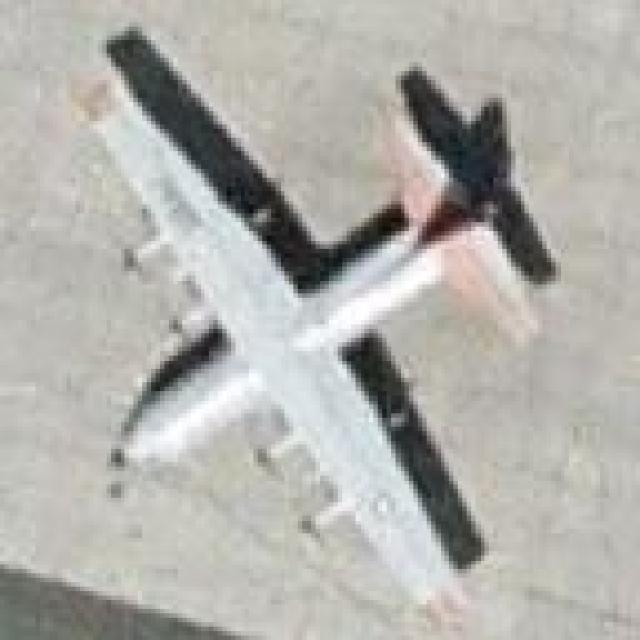C-130_TopDown: (75, 24, 558, 608)
